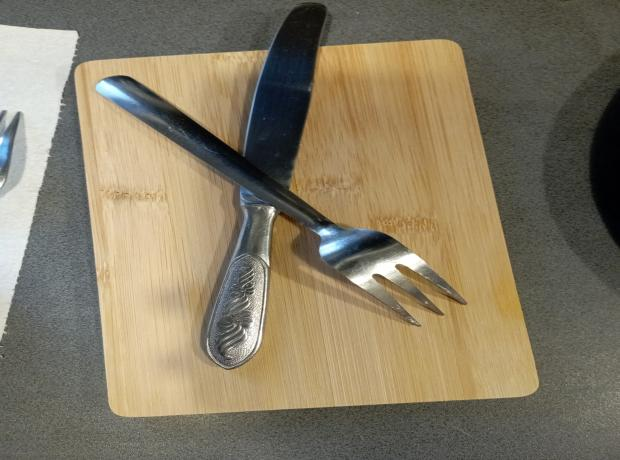metal: (94, 73, 469, 328), (205, 3, 332, 370)
